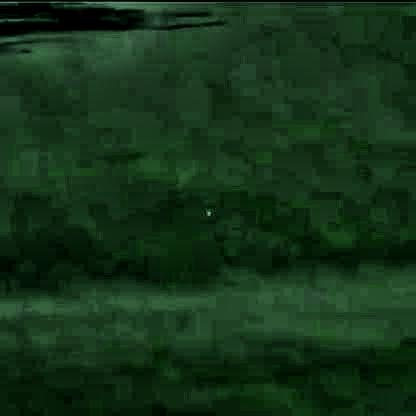golfball: (204, 206, 209, 213)
